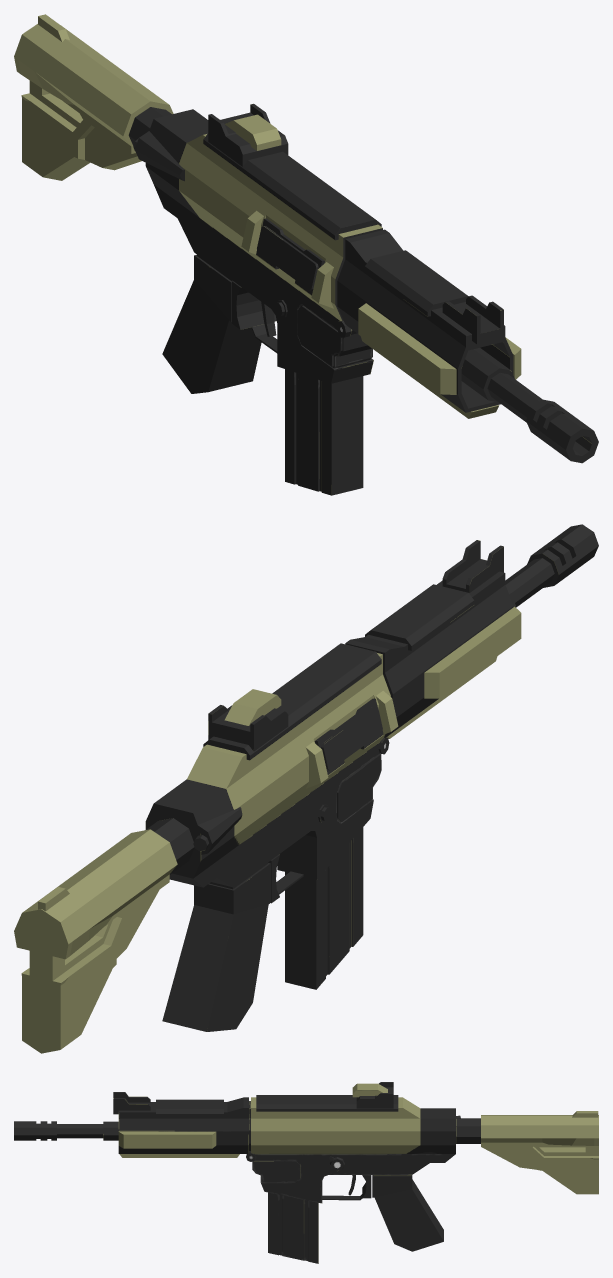
File: gun_anim_set.glb
3 renders of one model, top to bottom at view 1: azimuth 30°, elevation 25°; view 2: azimuth 150°, elevation 25°; view 3: azimuth 270°, elevation 25°, orthographic. The views are drawn at different scales.
Visible parts, largest first — view 1: gun_tan_merge; view 2: gun_tan_merge; view 3: gun_tan_merge.
Boxes of the visible parts, x1,y1,x2,y2 form: gun_tan_merge: (14,14,598,495); gun_tan_merge: (14,524,598,1053); gun_tan_merge: (14,1082,598,1263).
Size of the model in its own units: 0.0665 by 0.251 by 0.7689.
1 material, 1 textured.
